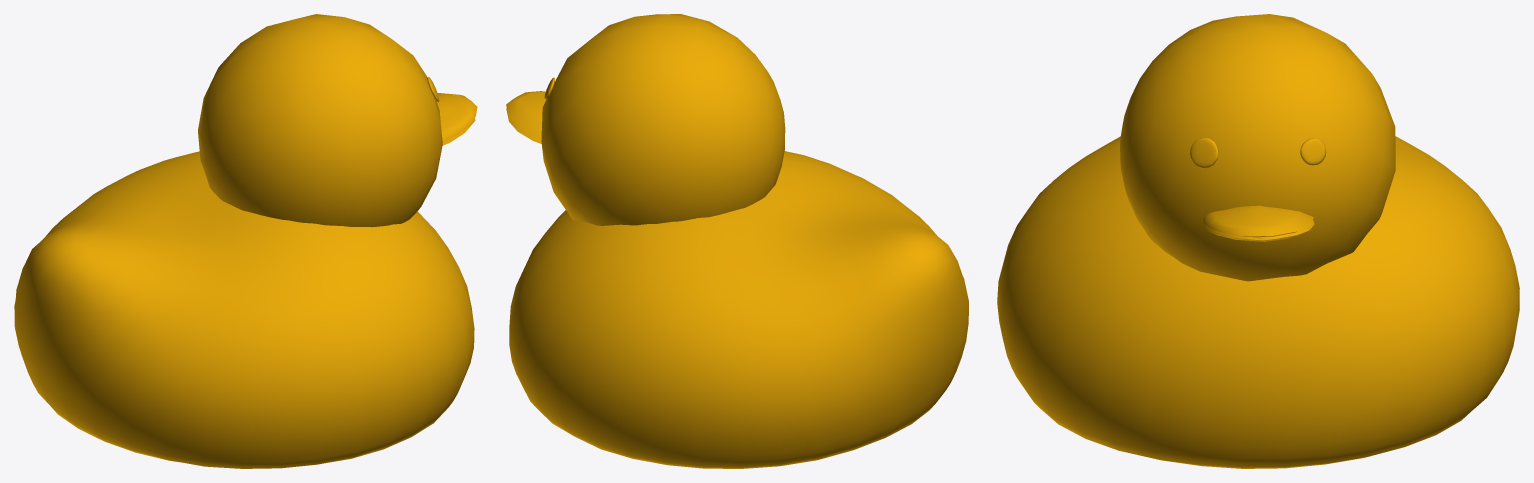
File: yellowduck.fbx
The picture shows the model from 3 angles, left to right: view 1: azimuth 30°, elevation 25°; view 2: azimuth 150°, elevation 25°; view 3: azimuth 270°, elevation 25°; orthographic projection. The views are drawn at different scales.
Visible parts, largest first — view 1: Retopo_球体.001; view 2: Retopo_球体.001; view 3: Retopo_球体.001.
Boxes of the visible parts, x1,y1,x2,y2 form: Retopo_球体.001: [14, 14, 477, 468]; Retopo_球体.001: [506, 14, 968, 468]; Retopo_球体.001: [997, 14, 1519, 468].
Bounding box in the file's own units: 324 × 245 × 298.
